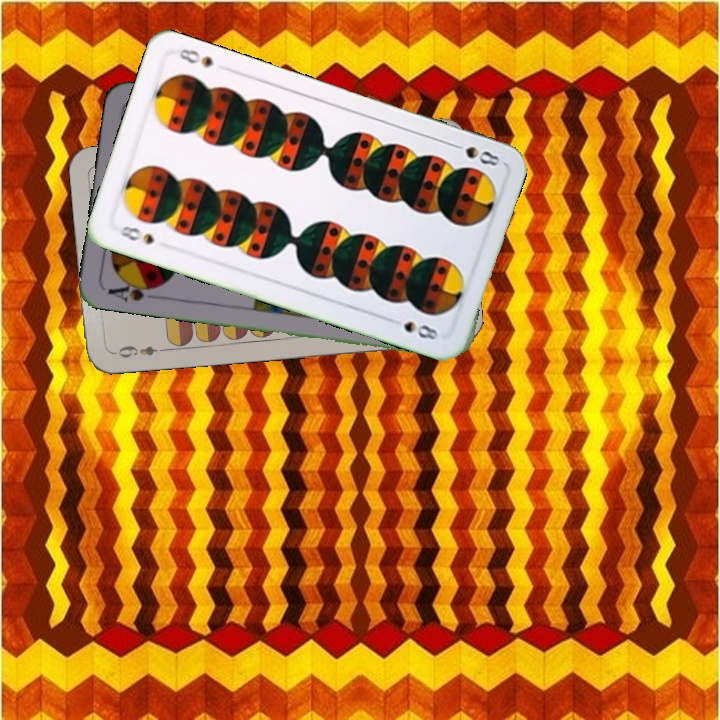E9: (109, 342, 168, 361)
S8: (445, 138, 504, 169), (111, 221, 156, 247)
SA: (103, 276, 163, 304)
